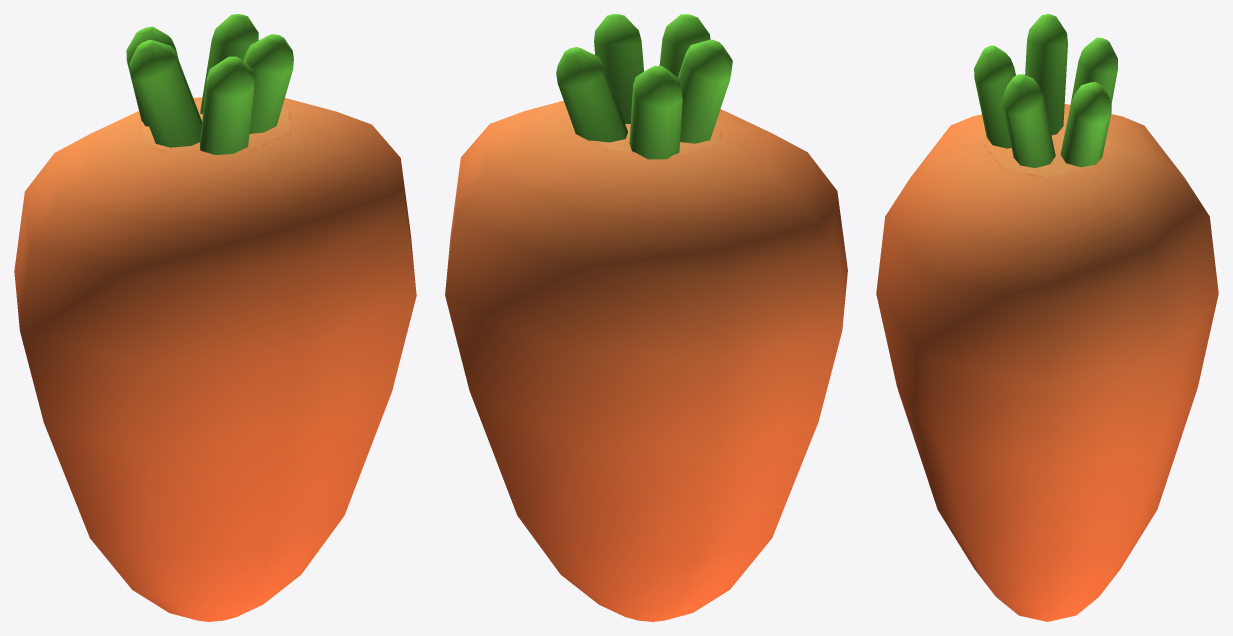
Rendered from Carrot.FBX.
The picture shows the model from 3 angles, left to right: view 1: azimuth 30°, elevation 25°; view 2: azimuth 150°, elevation 25°; view 3: azimuth 270°, elevation 25°; orthographic projection. The views are drawn at different scales.
Visible parts, largest first — view 1: Carrot; view 2: Carrot; view 3: Carrot.
Boxes of the visible parts, x1=… form: Carrot: x1=14, y1=14, x2=416, y2=621; Carrot: x1=445, y1=14, x2=847, y2=621; Carrot: x1=876, y1=14, x2=1218, y2=621.
Size of the model in its own units: 101 by 145 by 79.53.
